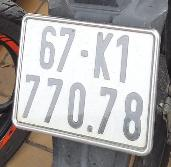0: (66, 83, 87, 129)
1: (115, 32, 131, 84)
6: (38, 24, 58, 69)
7: (97, 84, 118, 136), (46, 76, 64, 125), (23, 73, 42, 118), (56, 26, 74, 72)
8: (123, 91, 146, 144)
K: (90, 27, 113, 81)
